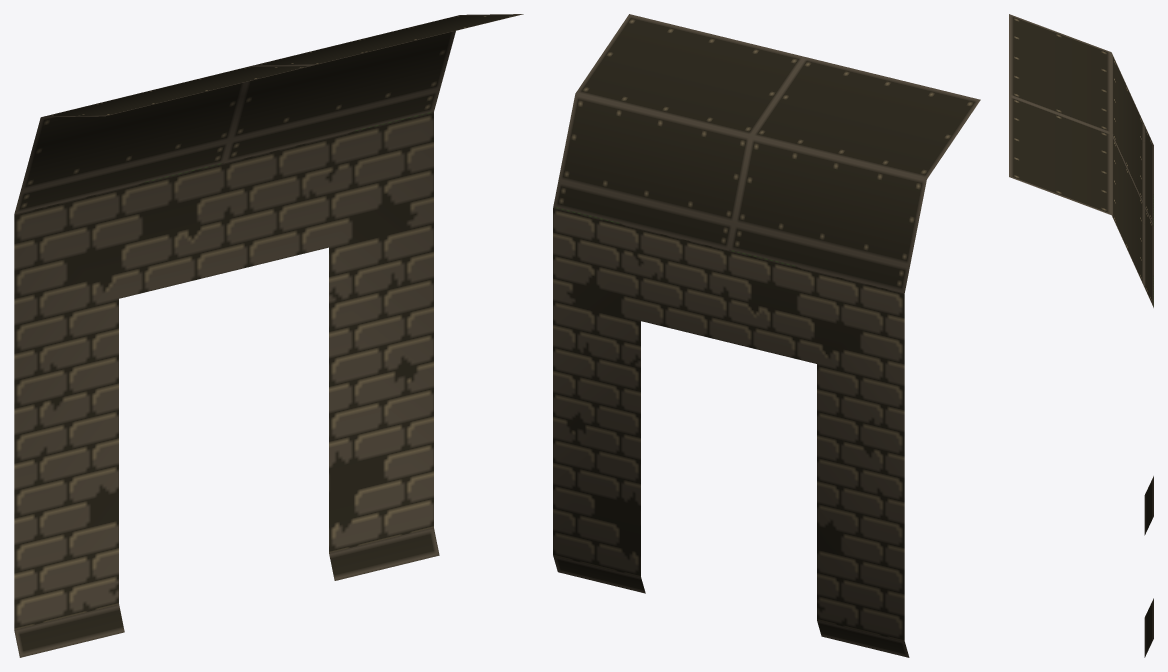
File: SmallEntrance.fbx
3 renders of one model, left to right at view 1: azimuth 30°, elevation 25°; view 2: azimuth 150°, elevation 25°; view 3: azimuth 270°, elevation 25°, orthographic. The views are drawn at different scales.
Visible parts, largest first — view 1: SmallEntrance; view 2: SmallEntrance; view 3: SmallEntrance.
Boxes of the visible parts, box(x1,y1,x2,y2) form: SmallEntrance: box(14, 14, 523, 657); SmallEntrance: box(553, 14, 980, 657); SmallEntrance: box(1009, 14, 1153, 657).
Bounding box in the file's own units: 400 × 550 × 150.
